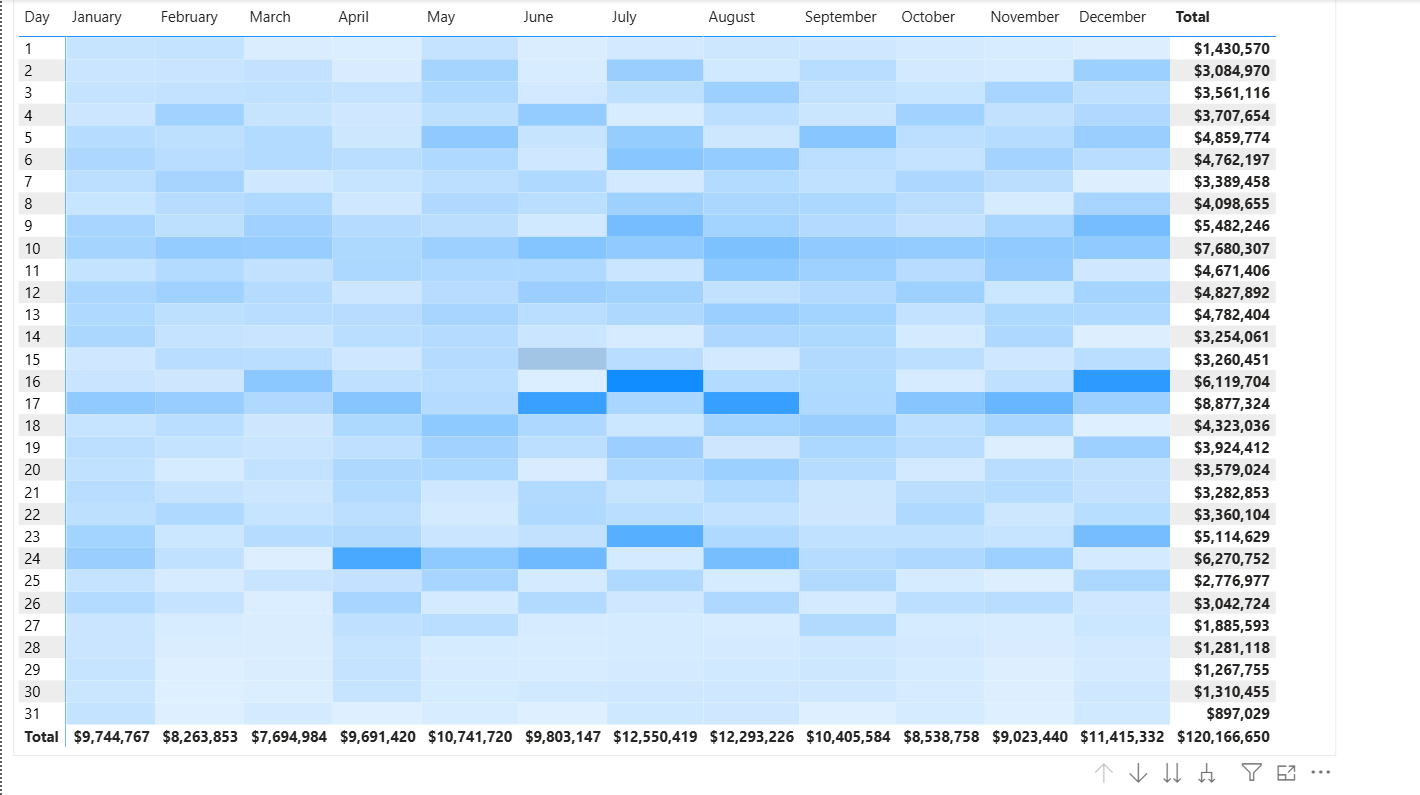

The dashboard page shown, as its layout file describes it:
{"tool":"powerbi","page":{"name":"Heat Map","canvas":[1280,720],"ordinal":2},"visuals":[{"type":"pivotTable","fields":{"Rows":["Date Table.Date.Variation.Date Hierarchy.Day"],"Columns":["Date Table.Date.Variation.Date Hierarchy.Month","Date Table.Date.Variation.Date Hierarchy.Year"],"Values":["Sum(Adidas Sales.Total Revenue)"]},"box":[10,0,1194.2,682.9],"z":0}]}

Visuals, with their boxes on the page's 1280x720 design canvas (x1, y1, x2, y2). These are canvas units, not pixel positions in the 1420x795 screenshot, which may show the page scaled, cropped or inside an application window:
pivotTable - Date Table.Date.Variation.Date Hierarchy.Day x Date Table.Date.Variation.Date Hierarchy.Month: 10 0 1204 683
